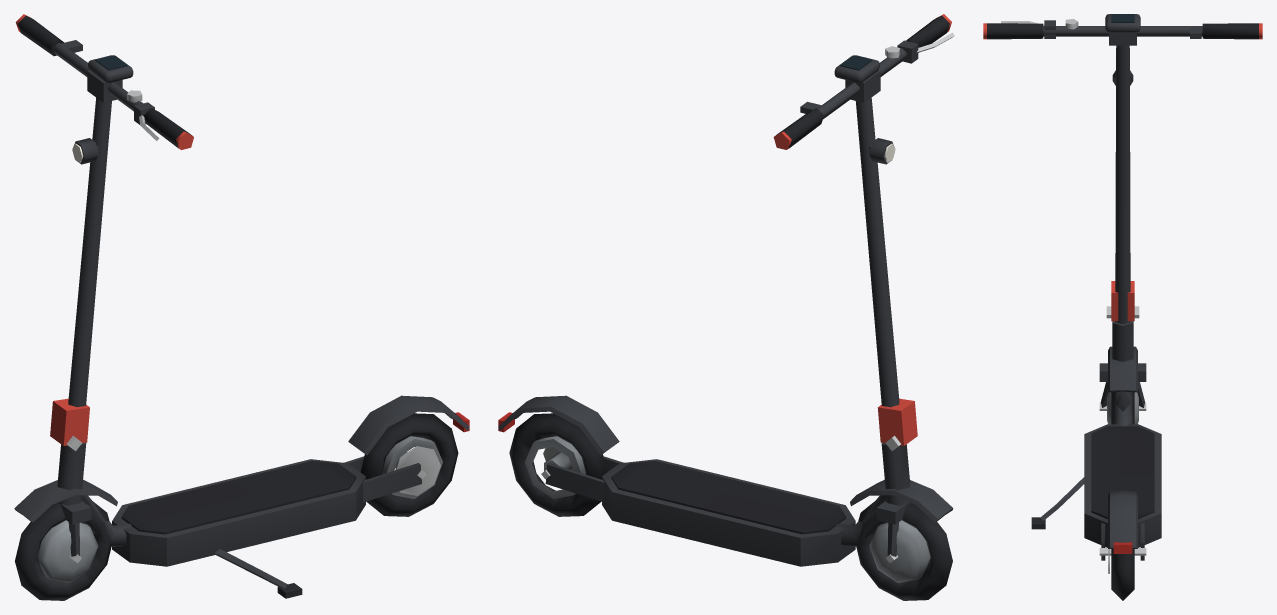
Rendered from eScooter.far.glb.
3 views of the same model, side by side, from view 1: azimuth 30°, elevation 25°; view 2: azimuth 150°, elevation 25°; view 3: azimuth 270°, elevation 25° (orthographic). The views are drawn at different scales.
Visible parts, largest first — view 1: eScooter; view 2: eScooter; view 3: eScooter.
Boxes of the visible parts, left/top/right/bottom form: eScooter: left=14, top=14, right=469, bottom=600; eScooter: left=498, top=14, right=954, bottom=600; eScooter: left=983, top=14, right=1262, bottom=600.
Size of the model in its own units: 0.9518 by 1.07 by 0.596.
